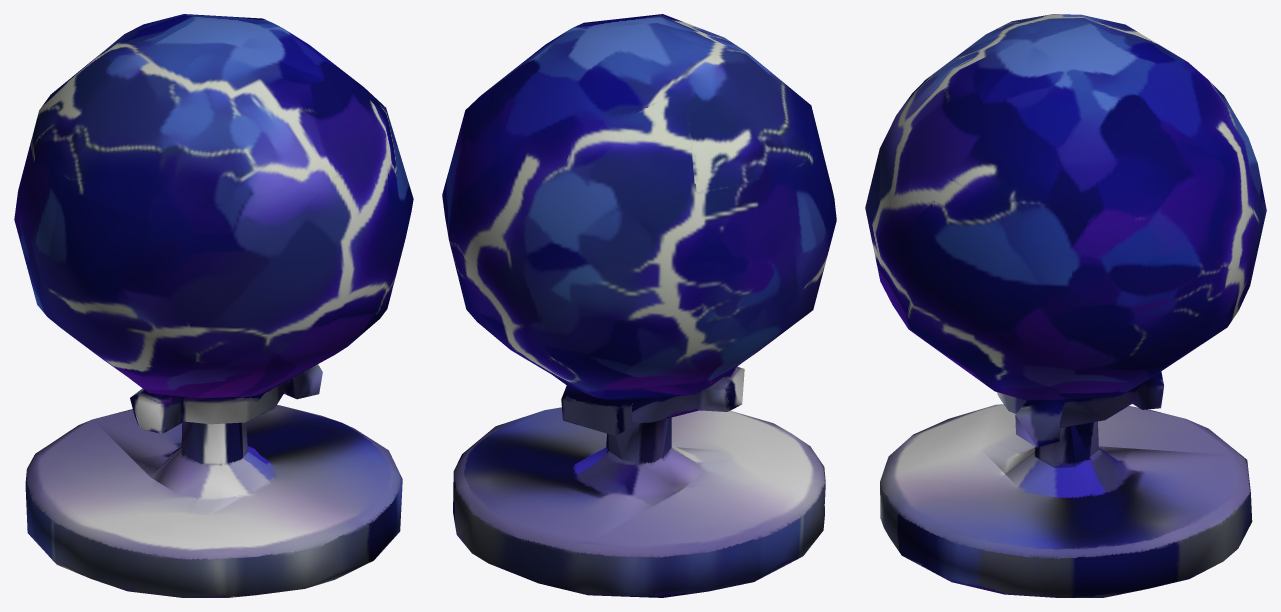
The model's file is plasma-globe.glb.
3 renders of one model, left to right at view 1: azimuth 30°, elevation 25°; view 2: azimuth 150°, elevation 25°; view 3: azimuth 270°, elevation 25°, orthographic.
Parts seen in each view (by area): view 1: geometry_0.001; view 2: geometry_0.001; view 3: geometry_0.001.
Boxes of the visible parts, x1,y1,x2,y2 form: geometry_0.001: (14, 14, 413, 597); geometry_0.001: (442, 14, 836, 597); geometry_0.001: (865, 14, 1266, 597).
Size of the model in its own units: 0.7429 by 1 by 0.7517.
1 material, 1 textured.
